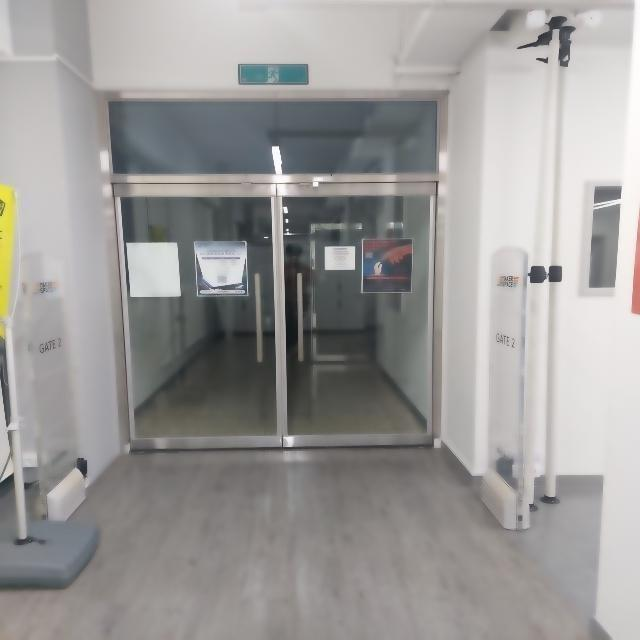door: (103, 178, 280, 448), (278, 176, 432, 448)
